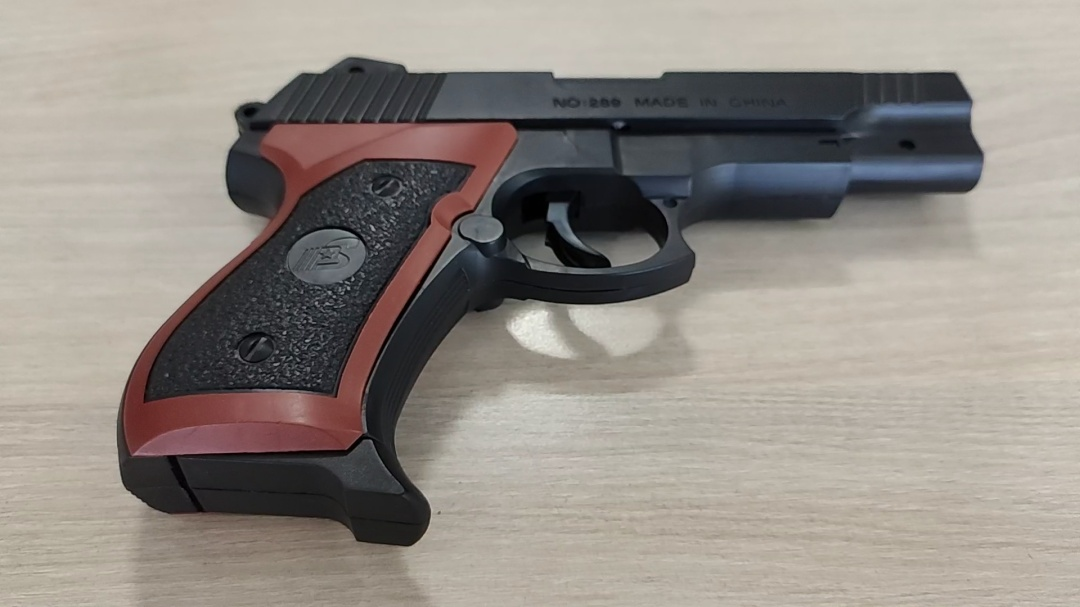gun: (254, 208, 647, 457)
